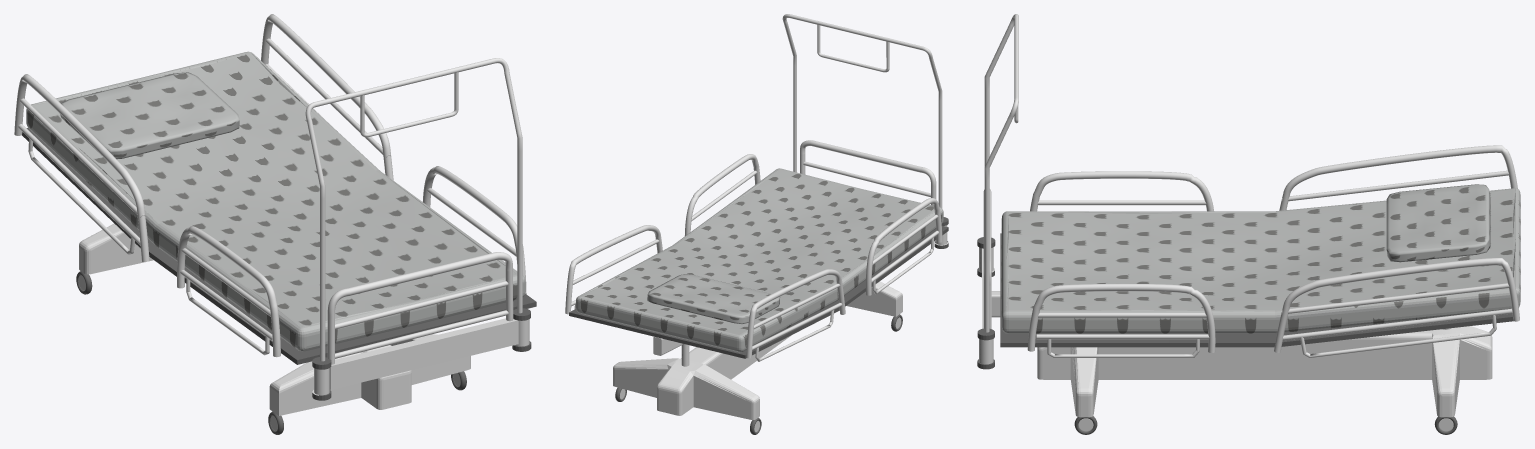
The model's file is Bed_SWedited.FBX.
3 views of the same model, side by side, from view 1: azimuth 30°, elevation 25°; view 2: azimuth 150°, elevation 25°; view 3: azimuth 270°, elevation 25° (orthographic). The views are drawn at different scales.
Visible parts, largest first — view 1: Bed_SWEdit; view 2: Bed_SWEdit; view 3: Bed_SWEdit.
Part boxes in pixels (left/top/right/bottom): Bed_SWEdit: left=14, top=14, right=536, bottom=415; Bed_SWEdit: left=565, top=14, right=948, bottom=419; Bed_SWEdit: left=977, top=14, right=1520, bottom=417.
Bounding box in the file's own units: 1.11 × 1.5 × 2.2.
3 materials, 1 textured.
